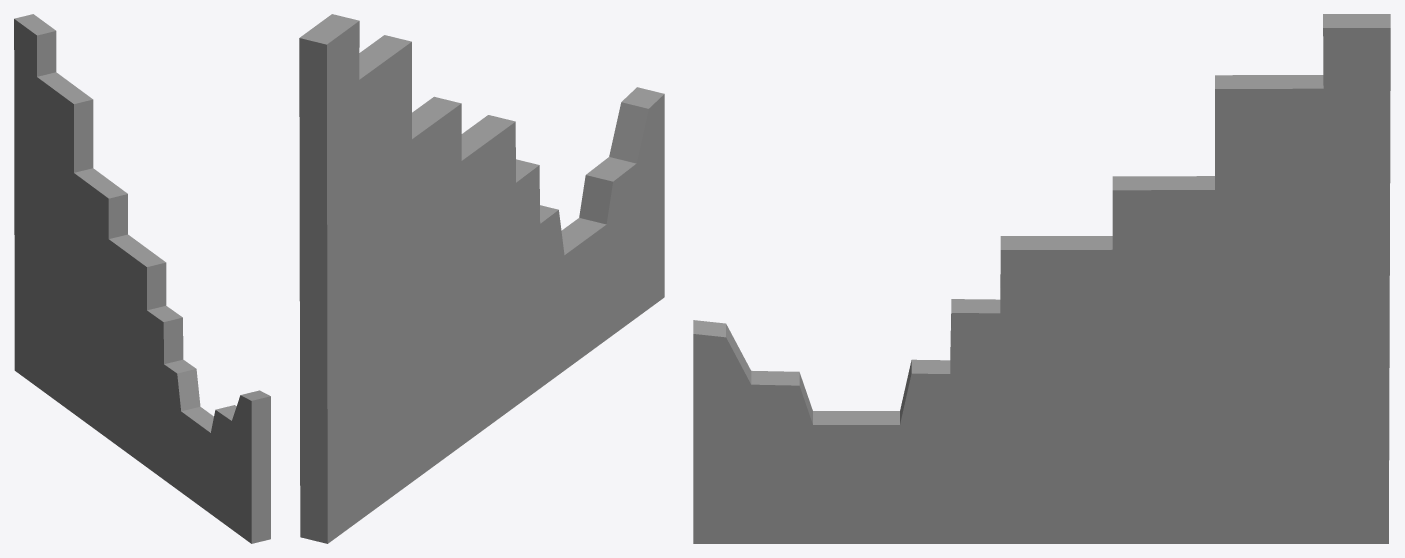
File: wall_8.fbx
3 renders of one model, left to right at view 1: azimuth 30°, elevation 25°; view 2: azimuth 150°, elevation 25°; view 3: azimuth 270°, elevation 25°, orthographic. The views are drawn at different scales.
Parts seen in each view (by area): view 1: Object.022; view 2: Object.022; view 3: Object.022.
Part boxes in pixels (<box>): Object.022: <box>14,14,270,543</box>; Object.022: <box>299,14,664,543</box>; Object.022: <box>693,14,1390,543</box>.
Size of the model in its own units: 60 by 1043 by 1277.
